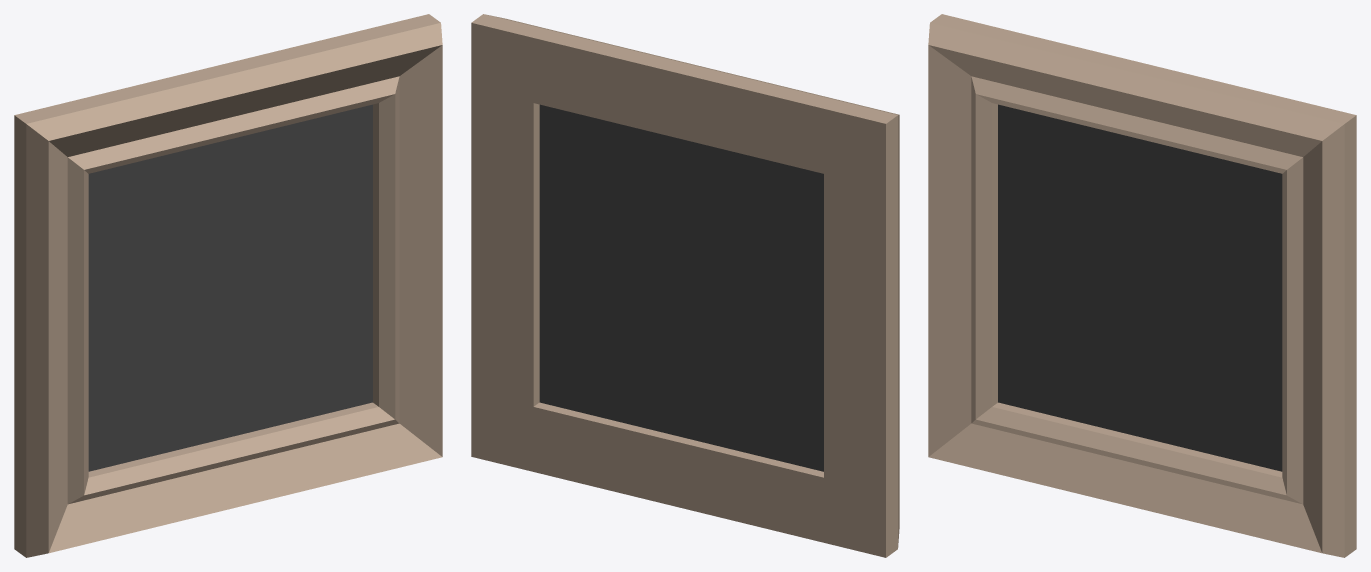
The model's file is Prop_Misc_Picture_Square_Small.glb.
3 renders of one model, left to right at view 1: azimuth 30°, elevation 25°; view 2: azimuth 150°, elevation 25°; view 3: azimuth 330°, elevation 25°, orthographic.
Parts seen in each view (by area): view 1: Prop_Misc_Picture_Square_Small; view 2: Prop_Misc_Picture_Square_Small; view 3: Prop_Misc_Picture_Square_Small.
Part boxes in pixels (x1,y1,x2,y2): Prop_Misc_Picture_Square_Small: [14, 14, 442, 557]; Prop_Misc_Picture_Square_Small: [471, 14, 899, 557]; Prop_Misc_Picture_Square_Small: [928, 14, 1356, 557].
Bounding box in the file's own units: 0.5 × 0.5 × 0.05.
